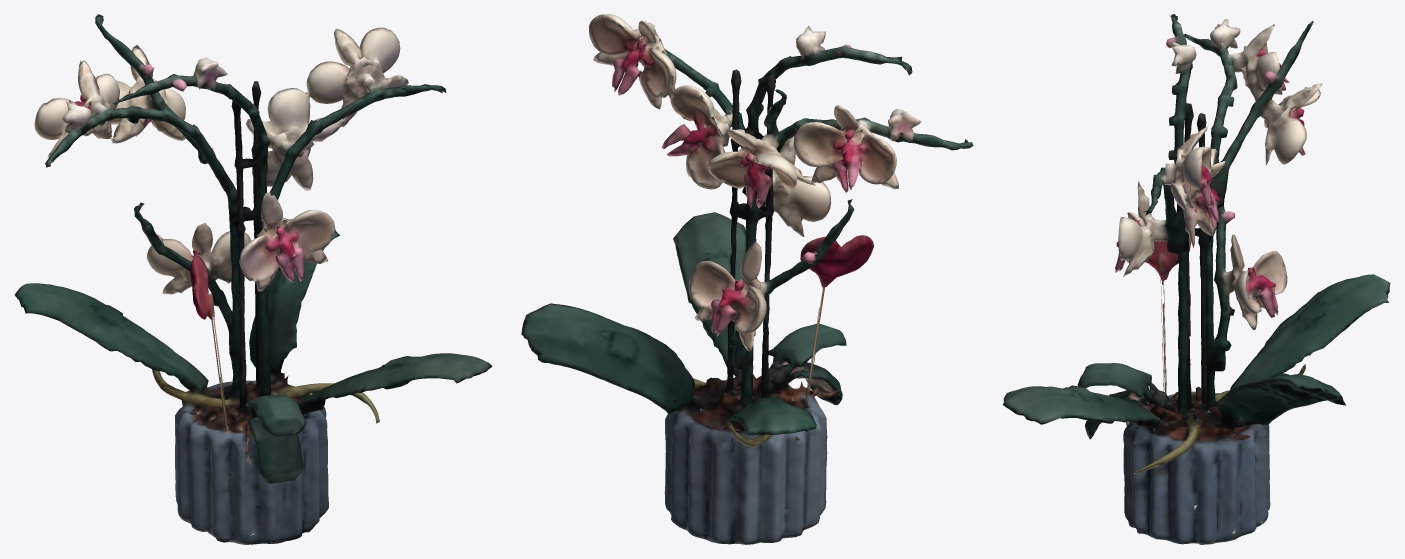
File: lego-blume.fbx
3 views of the same model, side by side, from view 1: azimuth 30°, elevation 25°; view 2: azimuth 150°, elevation 25°; view 3: azimuth 270°, elevation 25° (orthographic). The views are drawn at different scales.
Parts seen in each view (by area): view 1: lego-blume2; view 2: lego-blume2; view 3: lego-blume2.
Part boxes in pixels (x1,y1,x2,y2): lego-blume2: (14, 14, 492, 544); lego-blume2: (521, 14, 973, 544); lego-blume2: (1002, 14, 1390, 544).
Size of the model in its own units: 181 by 218 by 168.
Materials: 1 (1 with a texture image).
